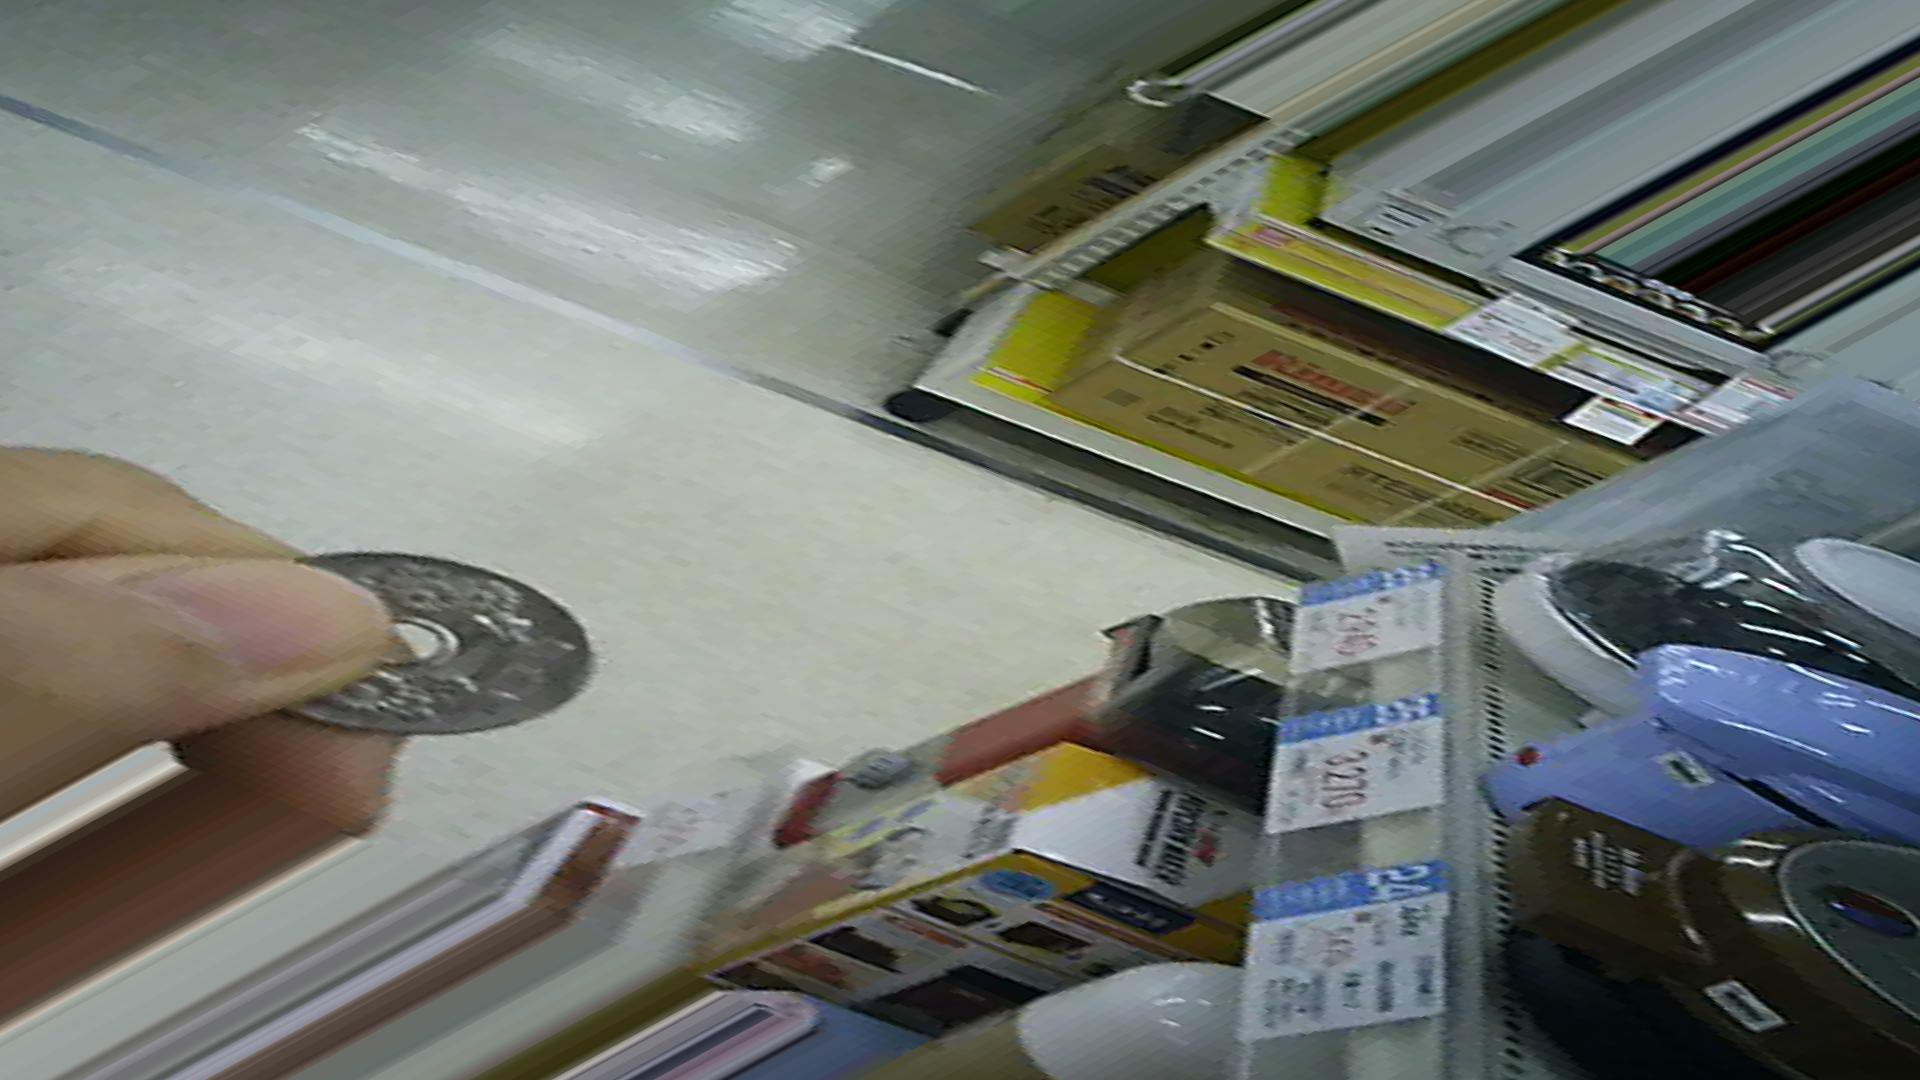50 Yen: (214, 521, 600, 753)
